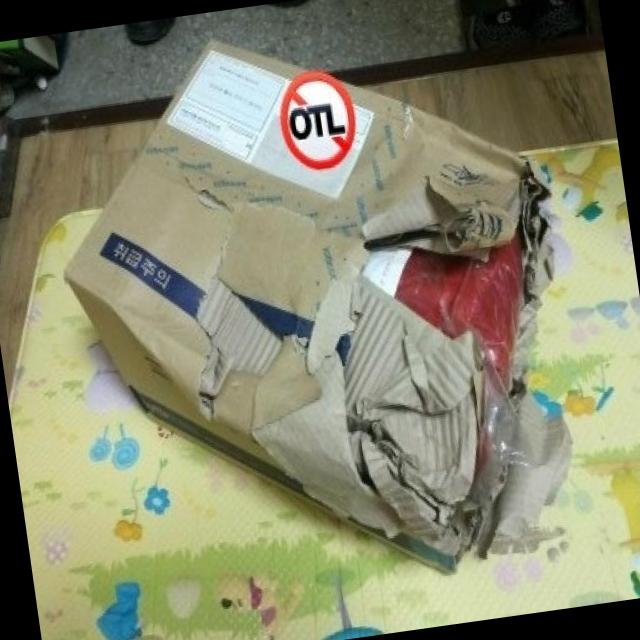tear: (190, 162, 569, 569)
